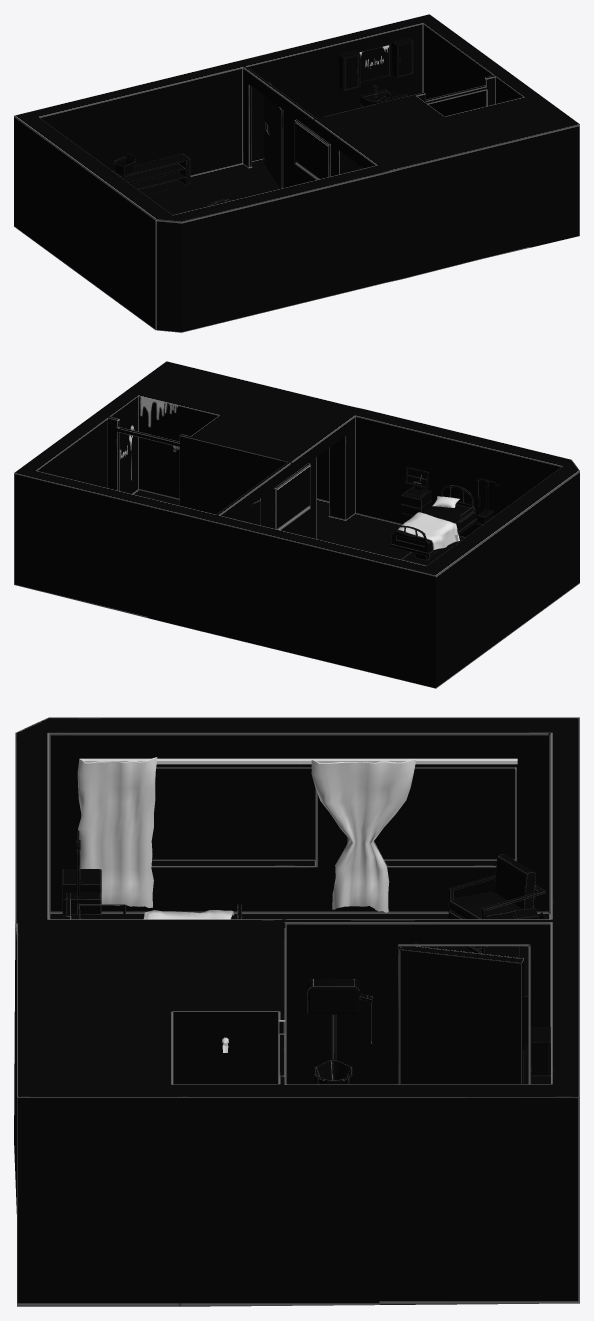
Rendered from textured_llevel 4.FBX.
The picture shows the model from 3 angles, top to bottom: view 1: azimuth 30°, elevation 25°; view 2: azimuth 150°, elevation 25°; view 3: azimuth 270°, elevation 25°; orthographic projection. The views are drawn at different scales.
Parts seen in each view (by area): view 1: Room4, storage_unit_2, storage_units, door, mirror, sink; view 2: Room4, bed, blanket2, monitor; view 3: Room4, curtains001, door, chair, toilet, curtainsupport, storage_units, bedside_cab, system, blanket2.
Boxes of the visible parts, <box> form: Room4: <box>14,14,579,332</box>; storage_unit_2: <box>112,153,190,195</box>; storage_units: <box>338,37,413,90</box>; door: <box>264,82,283,188</box>; mirror: <box>357,43,390,83</box>; sink: <box>360,84,391,106</box>; Room4: <box>14,361,579,688</box>; bed: <box>390,485,477,565</box>; blanket2: <box>398,512,459,549</box>; monitor: <box>401,467,431,517</box>; Room4: <box>14,717,579,1306</box>; curtains001: <box>77,757,416,912</box>; door: <box>399,946,523,1084</box>; chair: <box>448,854,545,954</box>; toilet: <box>307,979,372,1084</box>; curtainsupport: <box>80,758,517,764</box>; storage_units: <box>531,1027,550,1084</box>; bedside_cab: <box>62,869,101,915</box>; system: <box>70,831,101,915</box>; blanket2: <box>143,910,233,919</box>.
Bounding box in the file's own units: 22704 × 5838 × 14292.
Materials: 14 (14 with a texture image).
